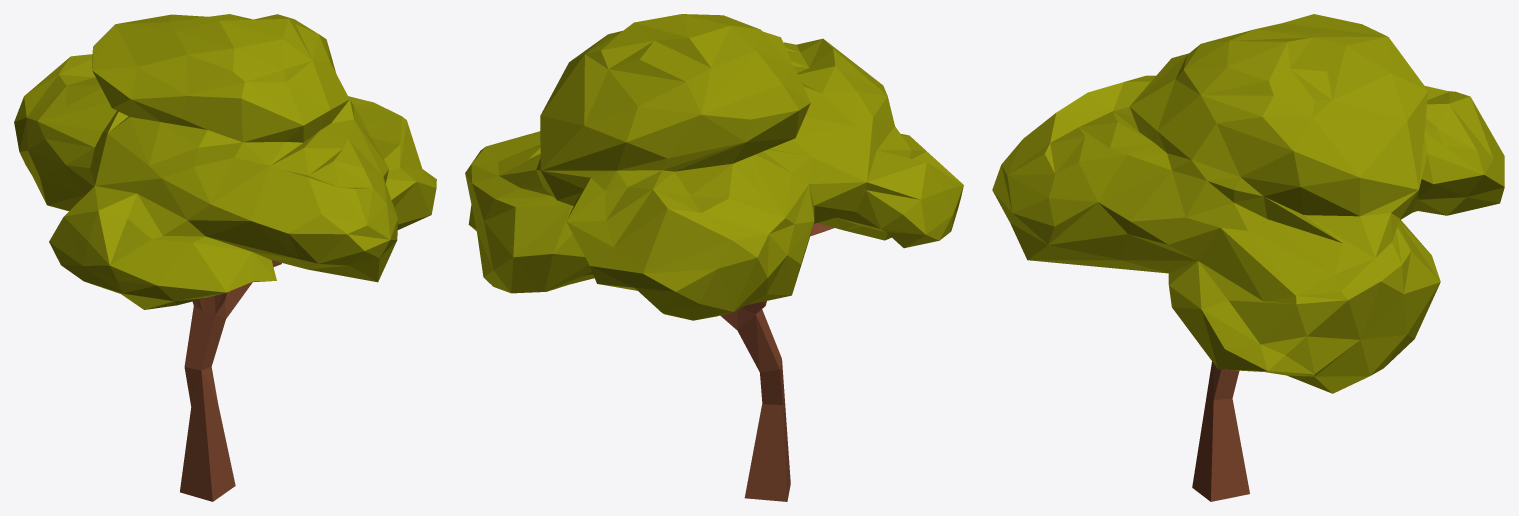
File: village_pack_tree_2.glb
3 renders of one model, left to right at view 1: azimuth 30°, elevation 25°; view 2: azimuth 150°, elevation 25°; view 3: azimuth 270°, elevation 25°, orthographic. The views are drawn at different scales.
Parts seen in each view (by area): view 1: tree 2_leaf 1_0; view 2: tree 2_leaf 1_0; view 3: tree 2_leaf 1_0.
Boxes of the visible parts, left/top/right/bottom form: tree 2_leaf 1_0: left=14, top=14, right=436, bottom=501; tree 2_leaf 1_0: left=465, top=14, right=963, bottom=501; tree 2_leaf 1_0: left=992, top=14, right=1504, bottom=501.
Size of the model in its own units: 11.84 by 12.21 by 12.01.
